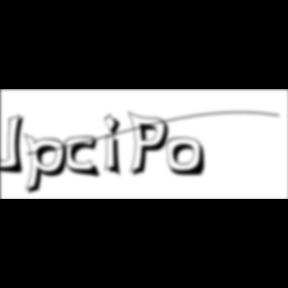J: (0, 114, 32, 176)
P: (128, 110, 174, 180)
c: (65, 136, 105, 180)
i: (104, 112, 128, 180)
o: (166, 137, 208, 179)
p: (24, 132, 74, 198)
